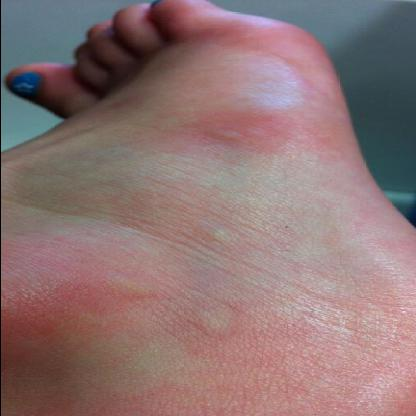Fire ant: (196, 302, 234, 340), (112, 268, 152, 300), (208, 125, 268, 141), (206, 226, 242, 245)
